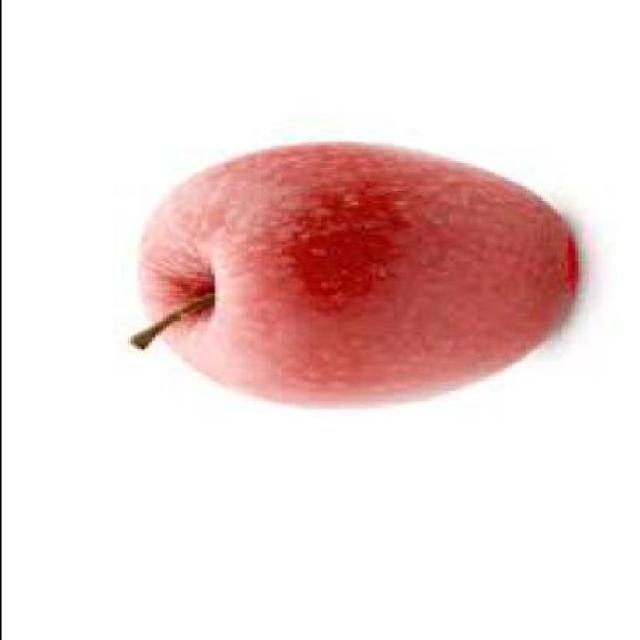BIODEGRADABLE: (129, 142, 580, 406)
